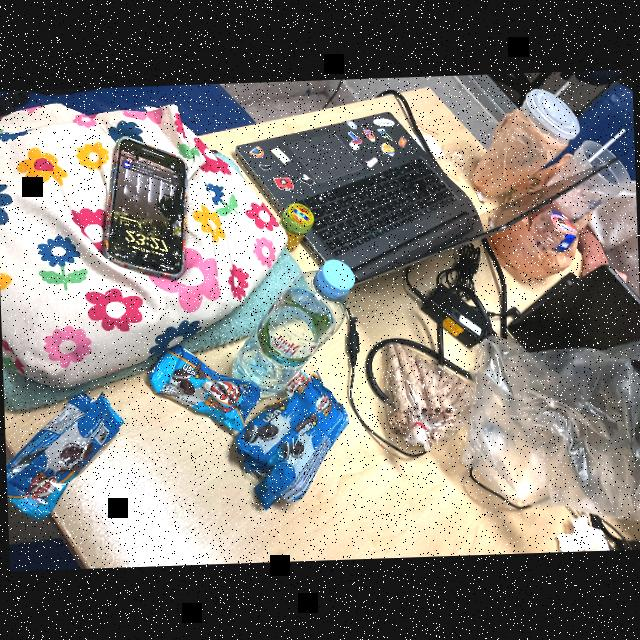plastic_bag: (459, 327, 640, 528), (481, 197, 586, 284), (472, 104, 568, 198)
plastic_bottle: (226, 260, 356, 390)
plastic_bottle_cap: (310, 257, 354, 298)
plastic_cup: (542, 139, 634, 214), (526, 208, 582, 258)
plastic_cup_lid: (524, 83, 588, 144)
scrap_paper: (550, 512, 610, 552)
snack_bag: (228, 371, 354, 512), (2, 388, 126, 516), (147, 339, 266, 436), (378, 336, 473, 454)
straw: (584, 126, 626, 164), (545, 82, 571, 100)
